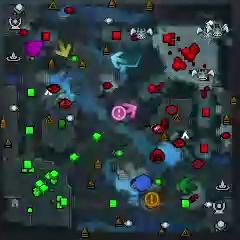Other: (144, 192, 159, 208), (112, 106, 126, 120)
p1: (133, 173, 152, 192)
p3: (25, 40, 43, 56)
x1: (119, 101, 137, 118)
x2: (55, 41, 71, 57)
x3: (110, 49, 128, 69)
x4: (179, 176, 196, 193)
